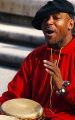male: (37, 4, 73, 49)
